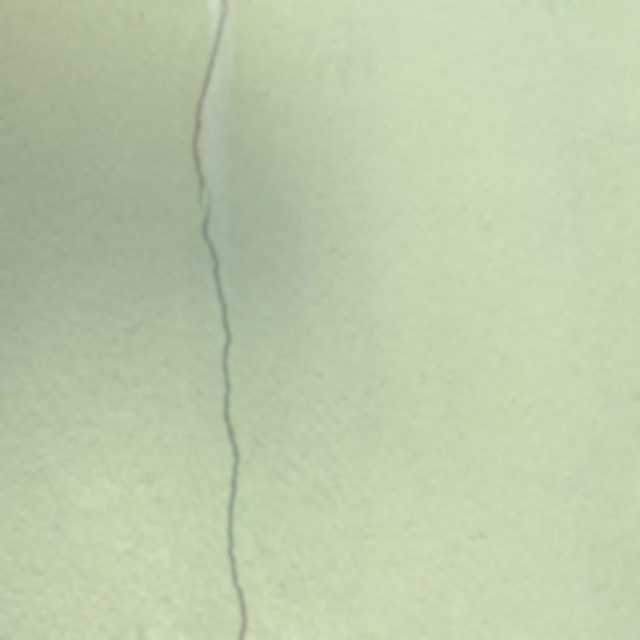SurfaceCrack: (151, 0, 292, 639)
